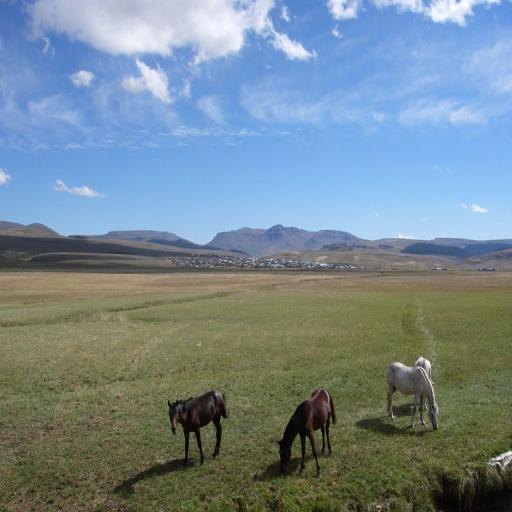Horse: (276, 389, 339, 471), (167, 391, 232, 466), (388, 363, 440, 431), (414, 356, 432, 410)
